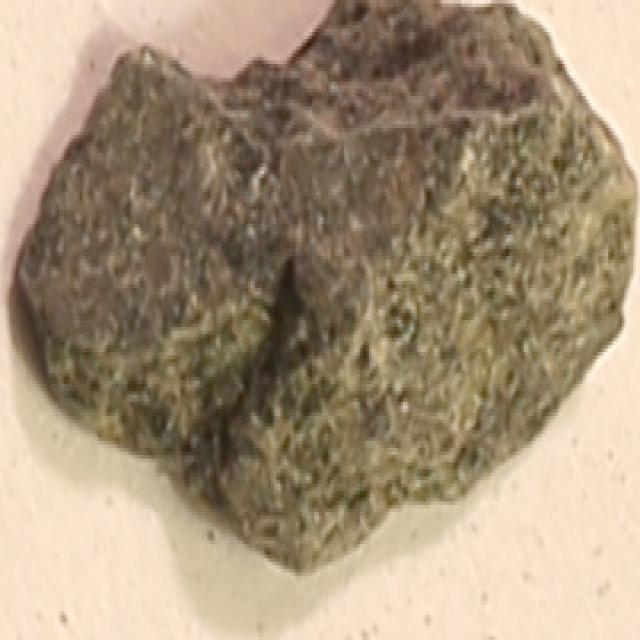stone: (12, 3, 640, 572)
